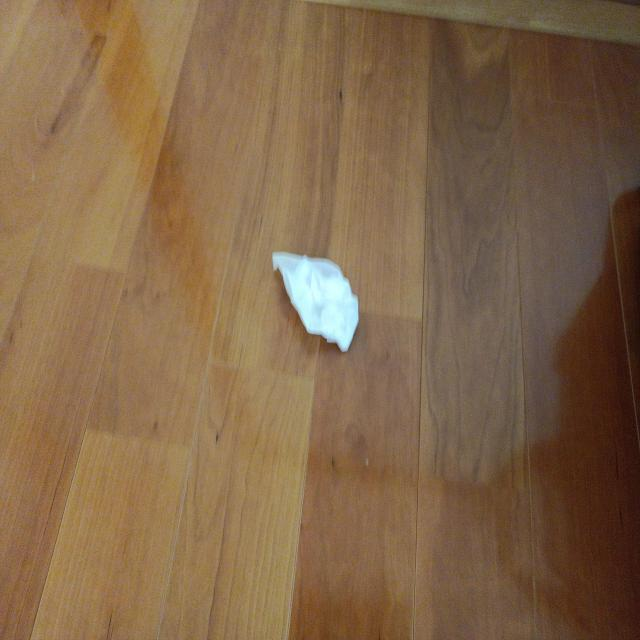Paper: (268, 229, 360, 348)
